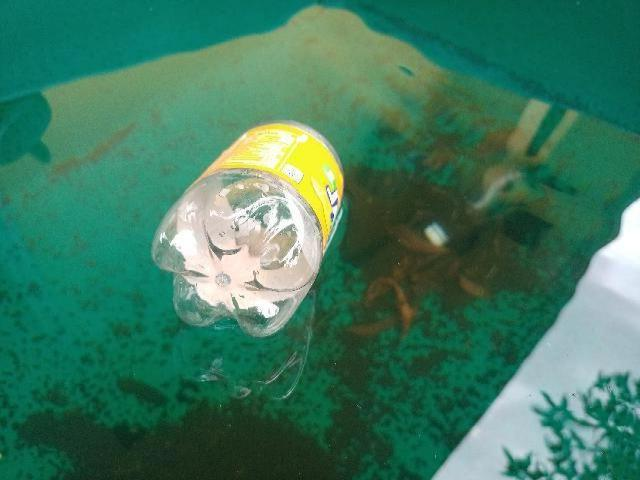Bottle: (143, 114, 362, 344)
